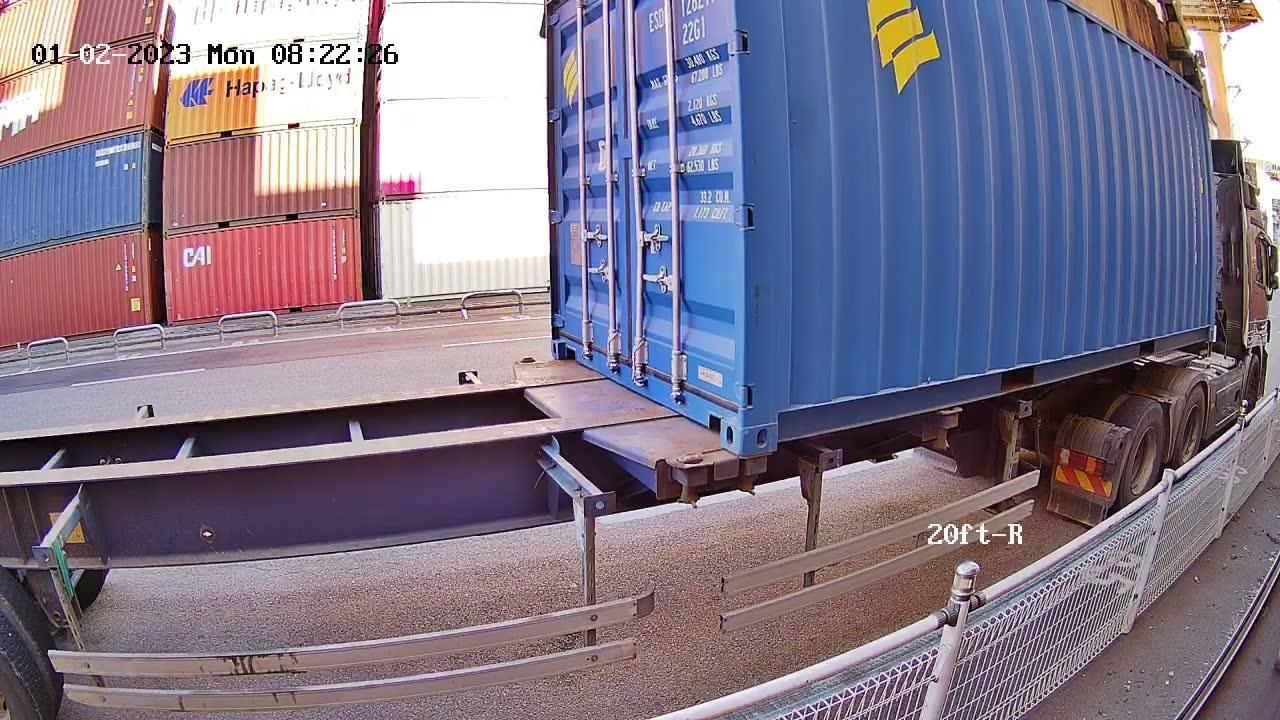Chassis: (516, 358, 714, 471)
Cone: (669, 452, 705, 512), (731, 455, 773, 501)
Hole_L: (741, 380, 809, 458), (549, 314, 583, 367)
Hole_R: (693, 368, 741, 458)
Tire: (1123, 405, 1167, 512), (1171, 387, 1207, 481)
